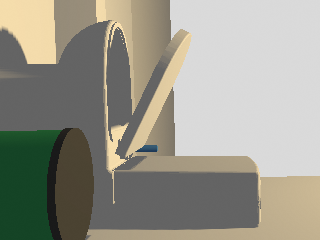lid_1: (115, 29, 190, 157)
